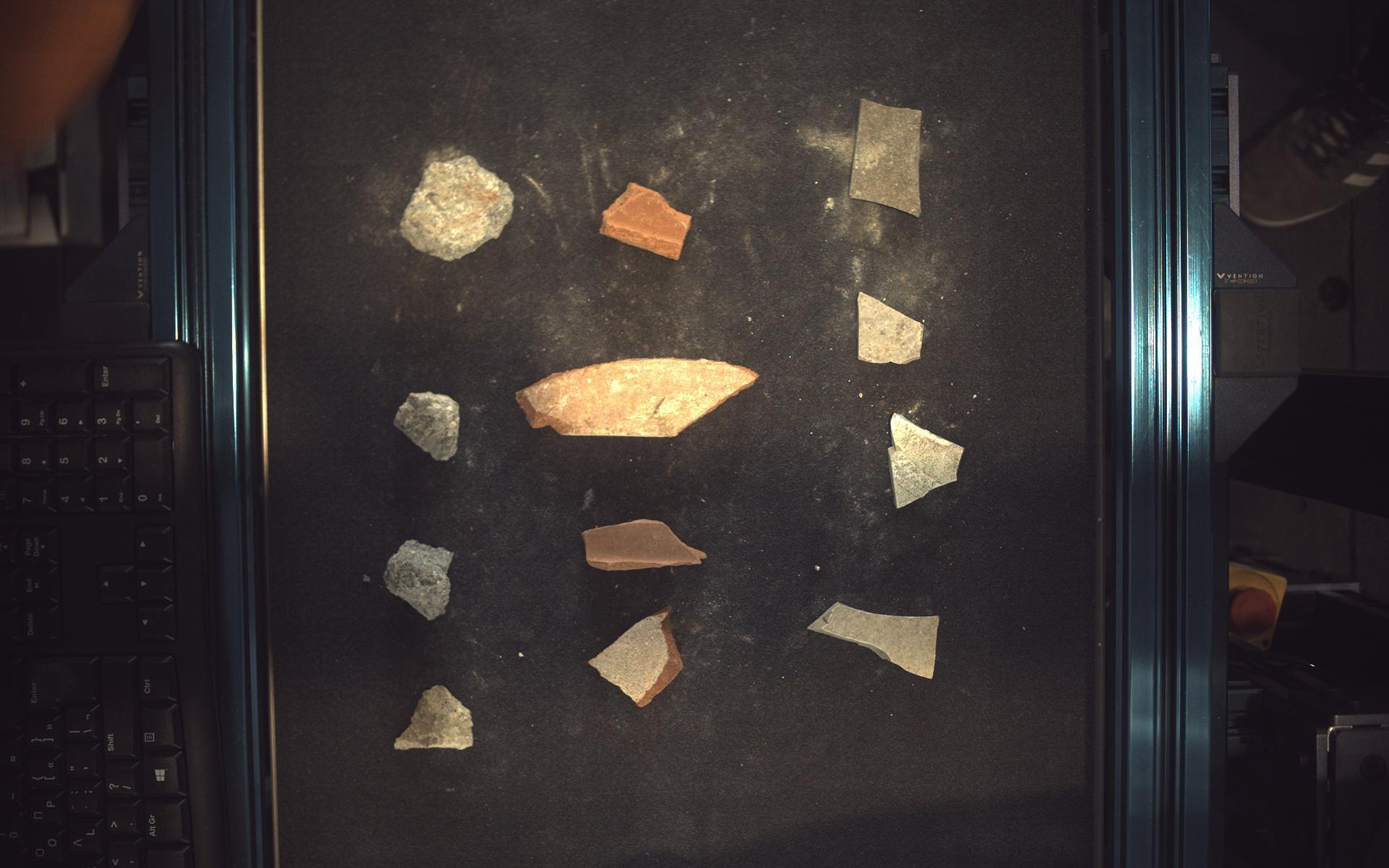brick: (516, 358, 760, 438), (590, 607, 683, 708), (600, 182, 692, 260), (583, 519, 708, 571)
concrete: (400, 155, 514, 260), (383, 540, 454, 621), (394, 686, 473, 751), (394, 392, 460, 461)
tile: (810, 603, 941, 680), (851, 98, 923, 216), (891, 414, 966, 509), (859, 292, 925, 364)
